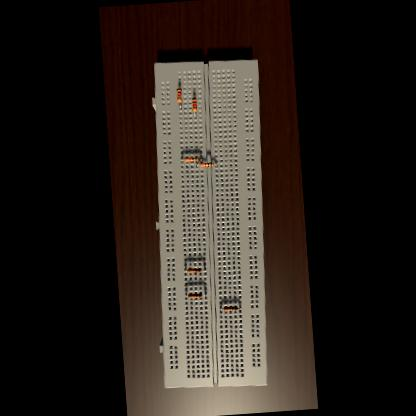breadboard: (140, 56, 280, 392)
resistor: (192, 97, 198, 112), (176, 88, 182, 103), (224, 306, 238, 312), (184, 157, 198, 163), (188, 267, 202, 273), (188, 293, 202, 299), (200, 162, 212, 168)
wire: (202, 292, 206, 296), (198, 159, 201, 162), (202, 268, 205, 271), (238, 306, 240, 309), (214, 164, 217, 166), (221, 306, 223, 309), (182, 159, 184, 162), (184, 268, 186, 271), (186, 293, 188, 296), (197, 164, 199, 166), (179, 86, 180, 88), (180, 102, 180, 108)
